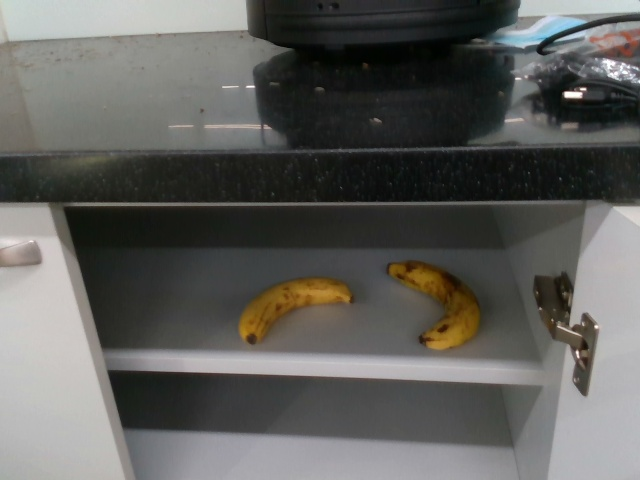banana: (385, 258, 484, 351), (236, 272, 355, 345)
